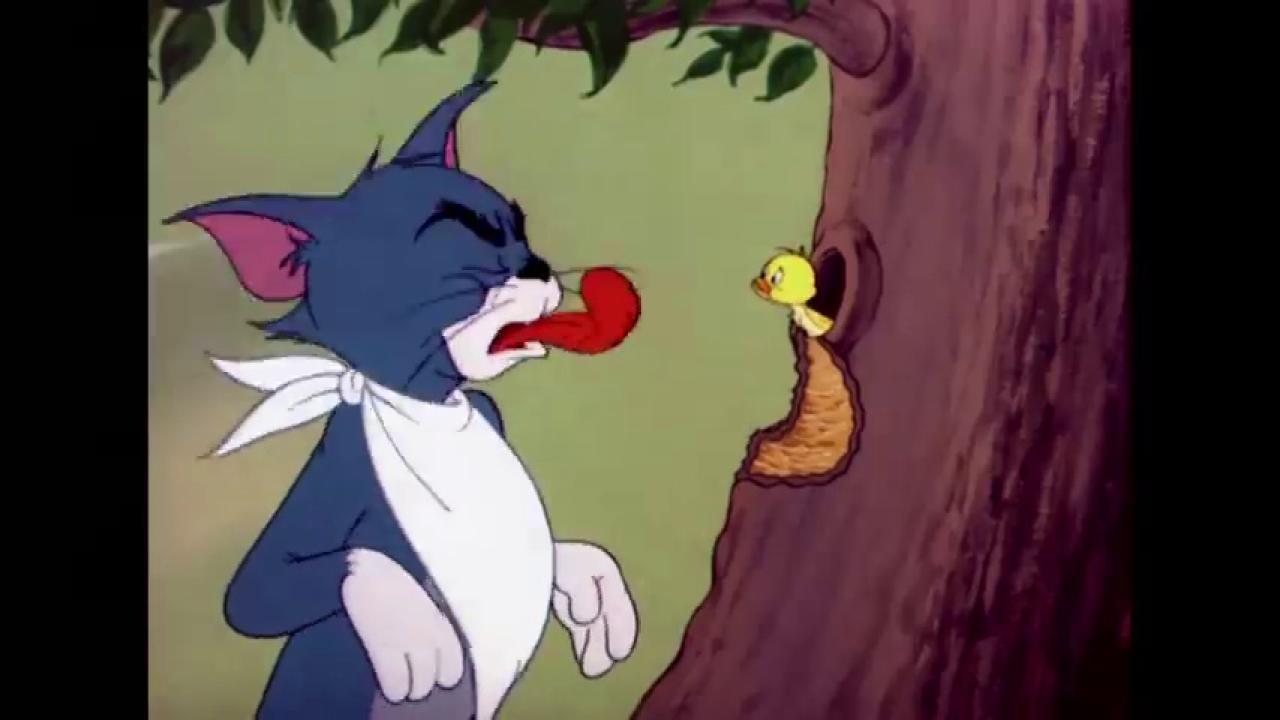Tom: (160, 76, 643, 720)
